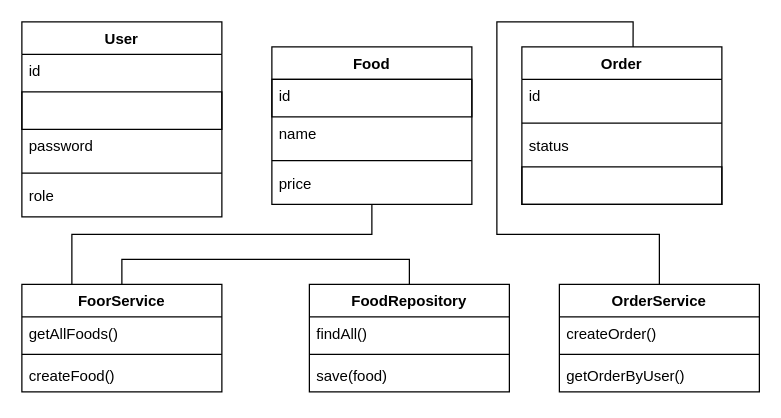
The diagram is 781 pixels wide and 418 high, and some of its shapes have lost their labels. Each missing label, with the centre of its shape:
createdAt: [621,185]
email: [121,110]
